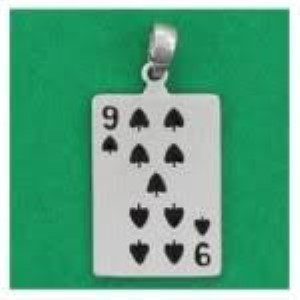NineOfSpades: (85, 93, 229, 278)
